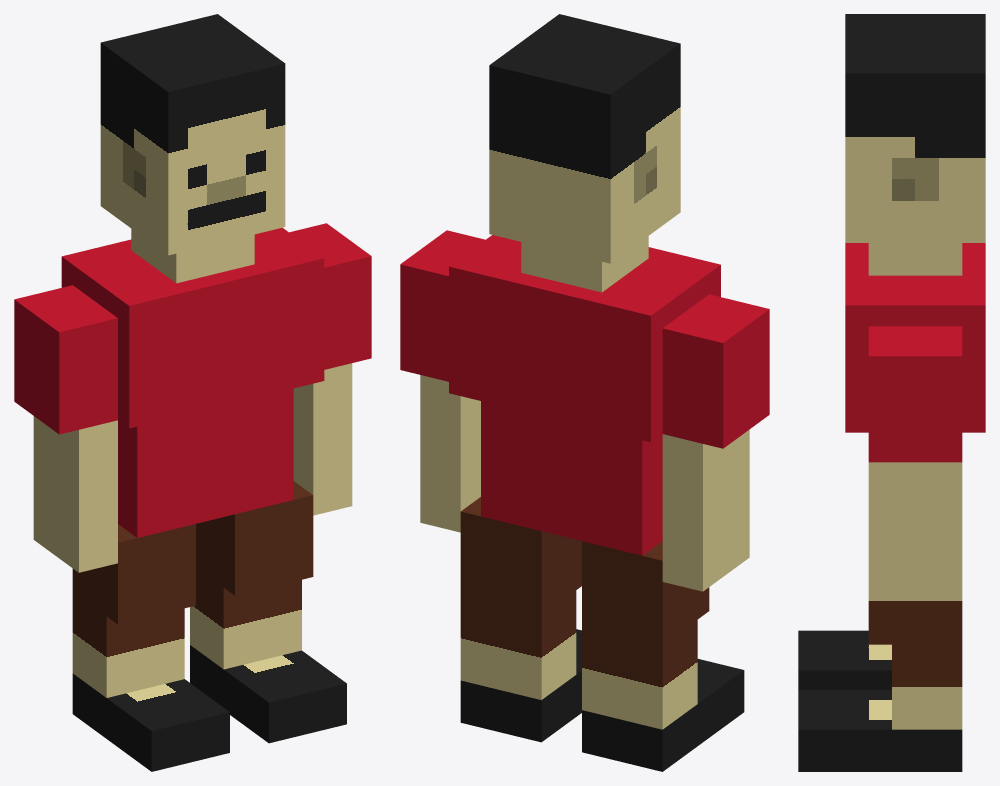
Rendered from Player.fbx.
The picture shows the model from 3 angles, left to right: view 1: azimuth 30°, elevation 25°; view 2: azimuth 150°, elevation 25°; view 3: azimuth 270°, elevation 25°; orthographic projection. The views are drawn at different scales.
Parts seen in each view (by area): view 1: Head, Upperbody, Body, UpperArm_1, LowerArm_1, Feet_1, Feet, UpperLeg, LowerLeg_1, UpperLeg_1, LowerLeg, LowerArm (+2 smaller); view 2: Head, Upperbody, Body, UpperArm_1, LowerArm_1, LowerLeg, LowerLeg_1, UpperLeg, UpperLeg_1, Feet_1, LowerArm, UpperArm (+2 smaller); view 3: Head, Upperbody, LowerArm, UpperArm, Feet, LowerLeg, Feet_1, UpperLeg, Neck.
Part boxes in pixels (x1,y1,x2,y2): Head: [100, 14, 285, 255]; Upperbody: [61, 227, 324, 428]; Body: [118, 388, 293, 537]; UpperArm_1: [14, 285, 117, 434]; LowerArm_1: [33, 416, 117, 572]; Feet_1: [72, 673, 229, 771]; Feet: [190, 645, 346, 743]; UpperLeg: [196, 481, 313, 595]; LowerLeg_1: [72, 592, 184, 697]; UpperLeg_1: [72, 524, 195, 624]; LowerLeg: [190, 567, 301, 669]; LowerArm: [293, 363, 352, 515]; Head: [489, 14, 680, 263]; Upperbody: [449, 235, 720, 442]; Body: [481, 401, 662, 555]; UpperArm_1: [662, 294, 769, 448]; LowerArm_1: [662, 429, 749, 591]; LowerLeg: [460, 590, 576, 699]; LowerLeg_1: [582, 620, 697, 729]; UpperLeg: [460, 497, 581, 615]; UpperLeg_1: [582, 541, 709, 644]; Feet_1: [582, 659, 744, 771]; LowerArm: [420, 375, 480, 532]; UpperArm: [400, 230, 485, 381]; Head: [845, 14, 985, 242]; Upperbody: [845, 243, 985, 432]; LowerArm: [868, 462, 962, 600]; UpperArm: [868, 326, 962, 462]; Feet: [798, 690, 962, 771]; LowerLeg: [892, 644, 962, 729]; Feet_1: [798, 630, 891, 689]; UpperLeg: [868, 601, 962, 644]; Neck: [868, 243, 962, 275].
Bounding box in the file's own units: 100 × 200 × 50.
Materials: 1 (1 with a texture image).
